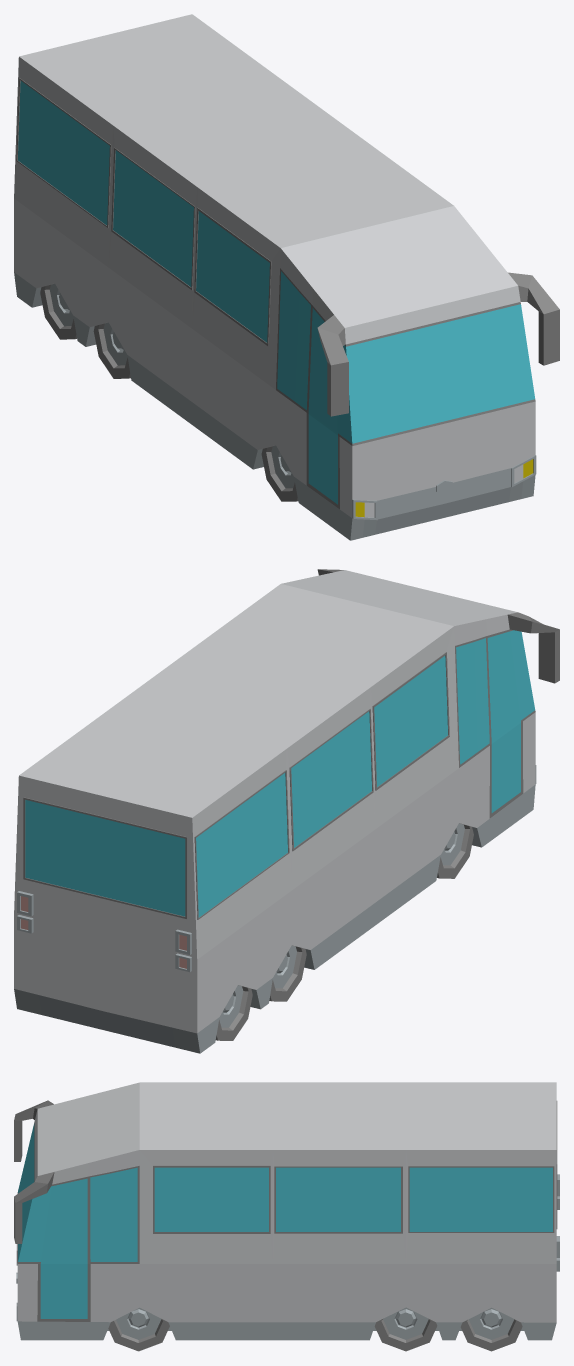
File: citybus.glb
The picture shows the model from 3 angles, top to bottom: view 1: azimuth 30°, elevation 25°; view 2: azimuth 150°, elevation 25°; view 3: azimuth 270°, elevation 25°; orthographic projection. The views are drawn at different scales.
Visible parts, largest first — view 1: citybus; view 2: citybus; view 3: citybus.
Boxes of the visible parts, <box> form: citybus: <box>14,14,559,540</box>; citybus: <box>14,569,559,1053</box>; citybus: <box>14,1082,559,1351</box>.
Size of the model in its own units: 9.16 by 9.68 by 23.75.
